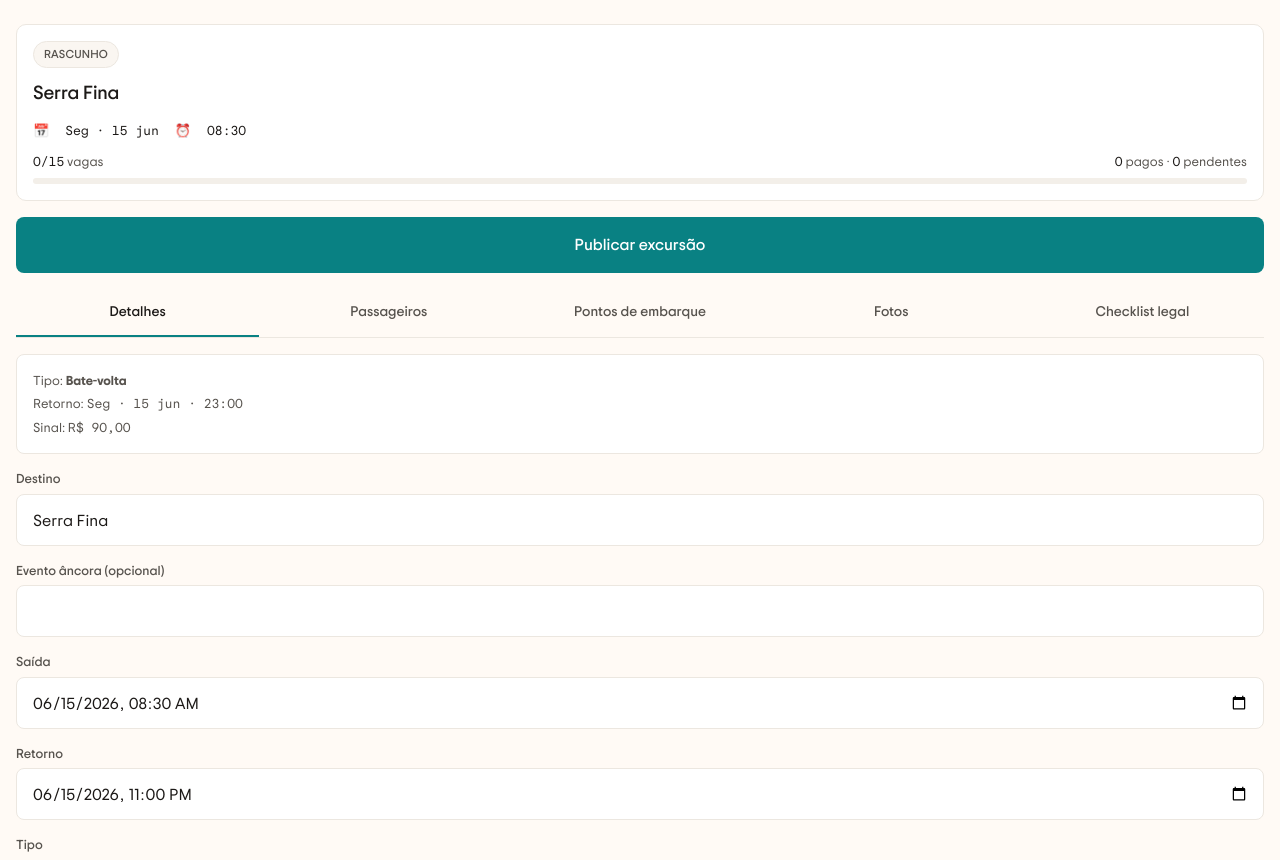
ExcursaoDetalhePage › publica com sucesso quando já existe ponto de embarque
The width and height of the screenshot is (1280, 860).
Expected: the text "Serra Fina" is shown, [33,84,119,103]
Click the button "Publicar excursão".
click(640, 245)  # box [16,217,1264,273]
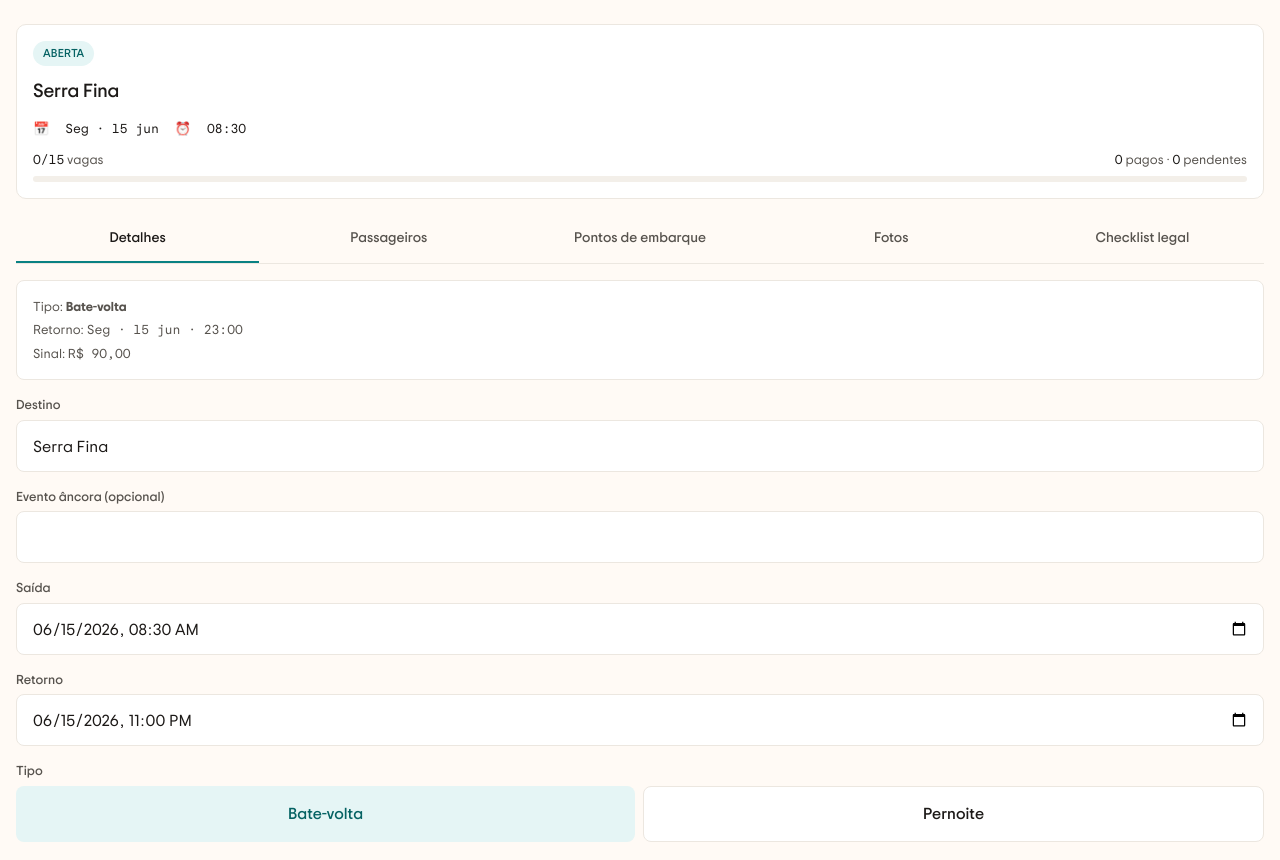
Expected: the text "Aberta" is shown, [33,41,94,66]
Expected: the button "Publicar excursão" is gone
